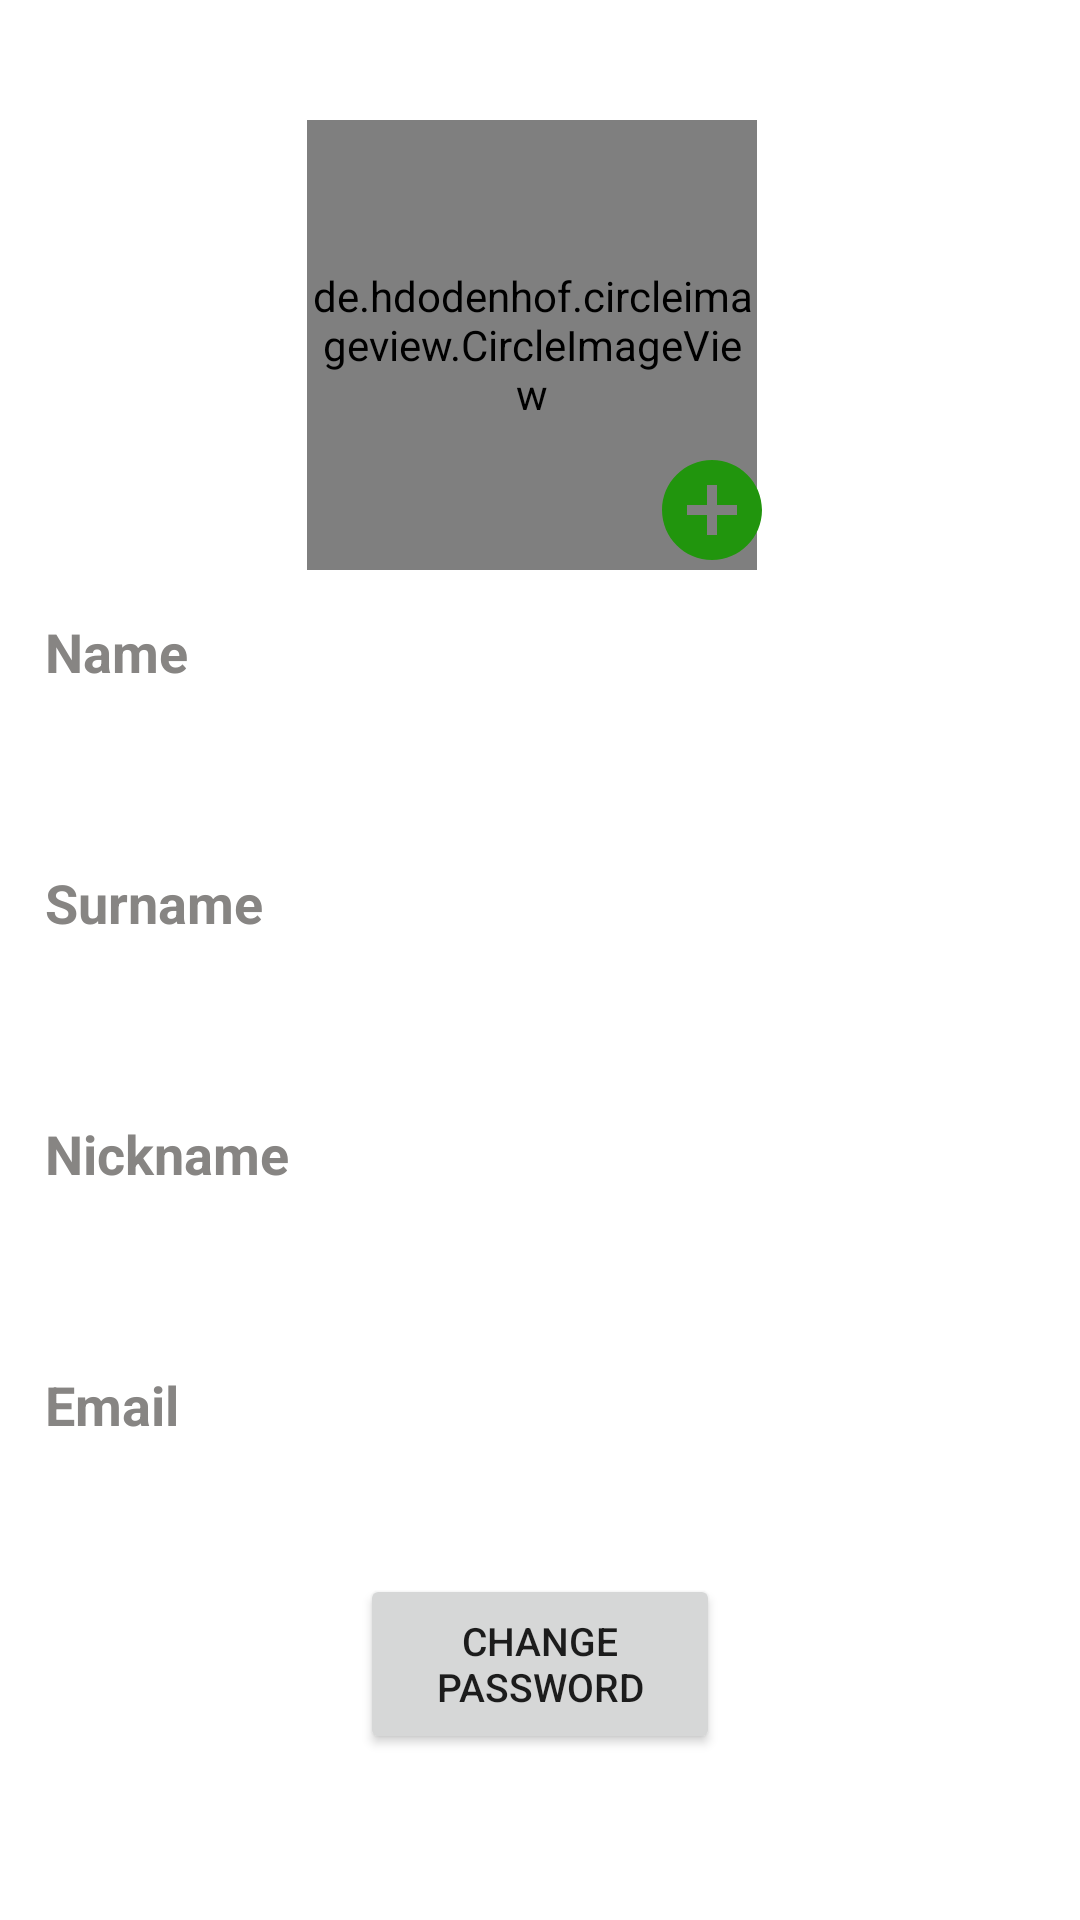

Icons on this 1080*1920 Android screen, each with the point to tap as (x=x, y=y):
add circle: (x=712, y=510)
